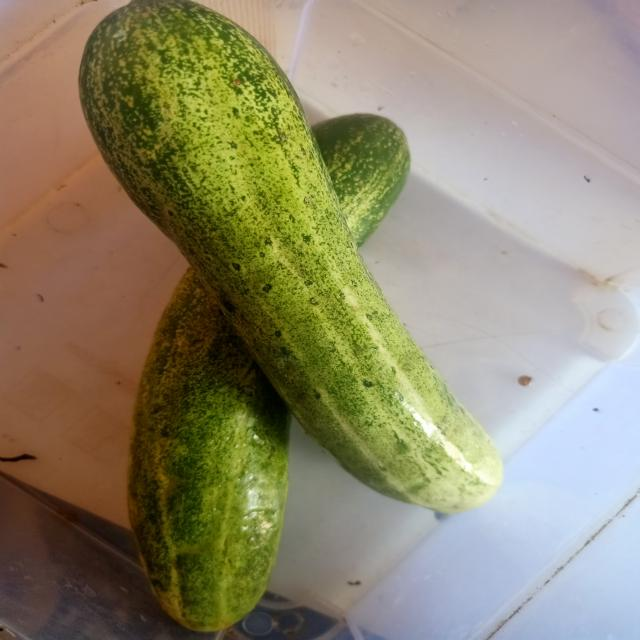Cucumber: (78, 0, 502, 514)
